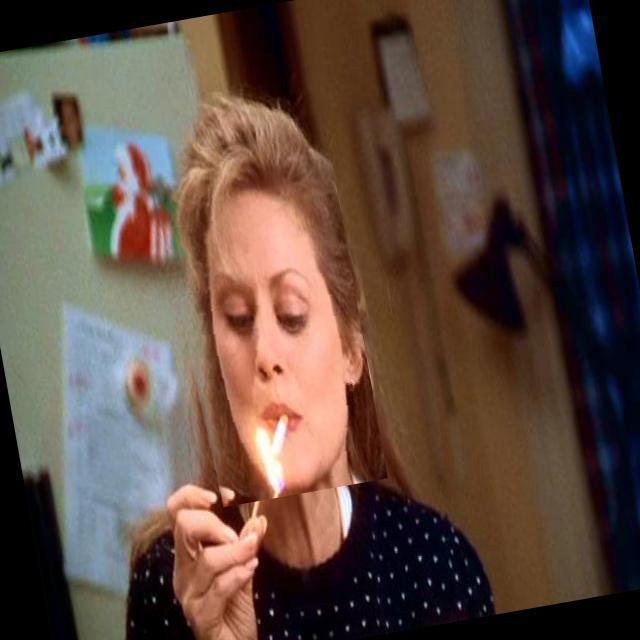cigarette: (239, 408, 286, 477)
